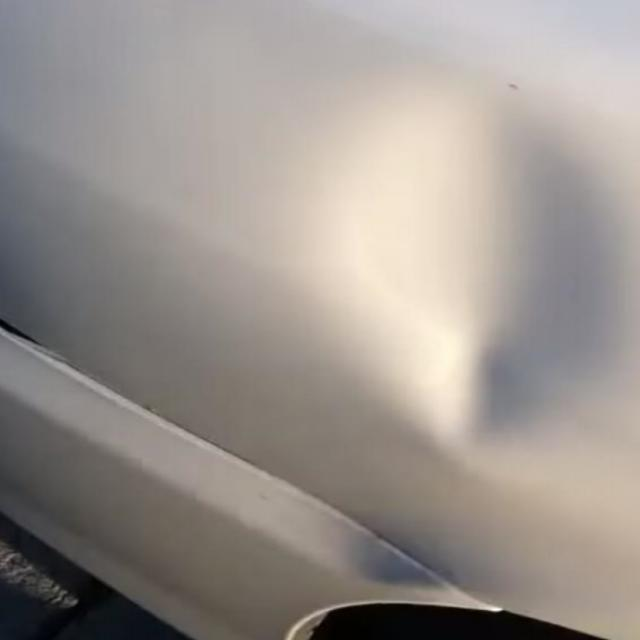dents: (281, 111, 640, 463)
